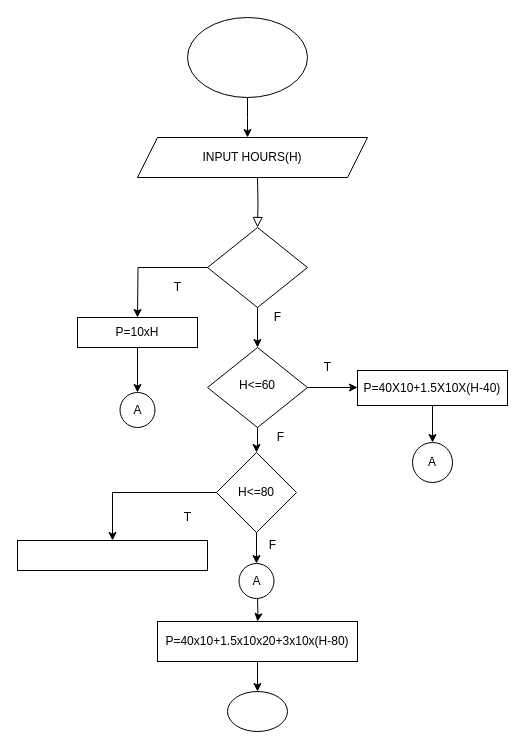
This 525x749 diagram has some shape labels left out. Each missing label, with the centre of its shape:
"END" belongs at [257,711].
"H<=40" belongs at [257,267].
"P=40x10+1.5x10x20+2x10x(H-60)" belongs at [112,555].
"START" belongs at [247,57].
